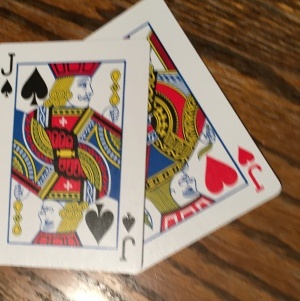card: (149, 37, 282, 264)
